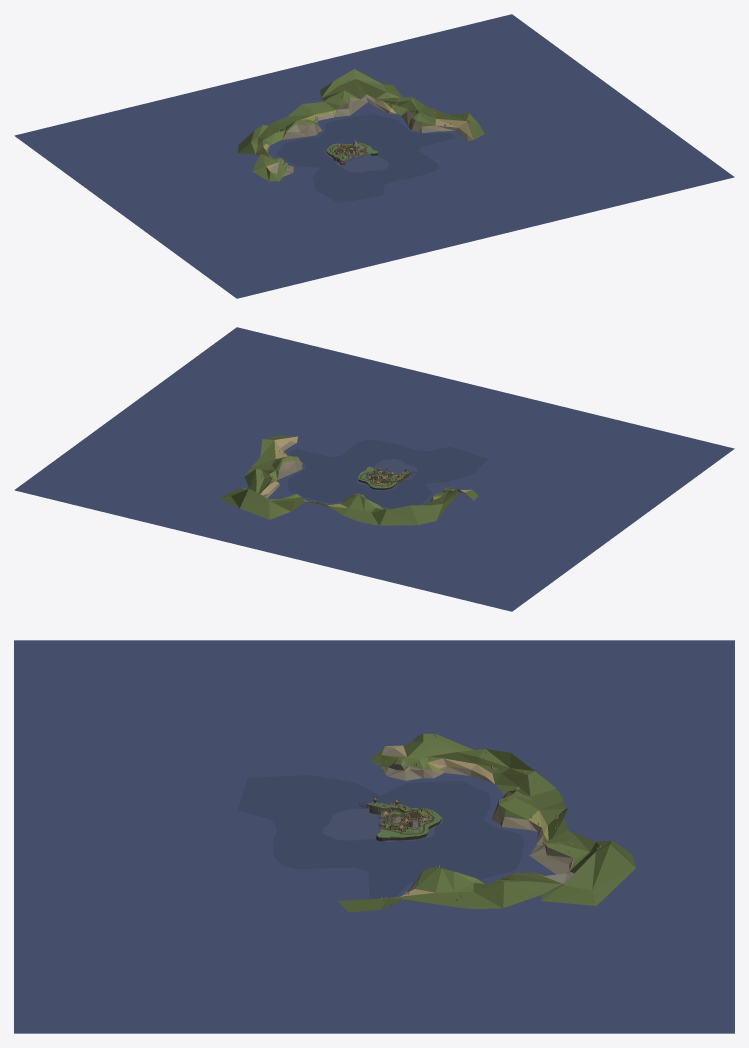
File: narrowFields.glb
3 views of the same model, one above another, from view 1: azimuth 30°, elevation 25°; view 2: azimuth 150°, elevation 25°; view 3: azimuth 270°, elevation 25° (orthographic). The views are drawn at different scales.
Parts seen in each view (by area): view 1: ocean, Plane.419; view 2: ocean, Plane.419; view 3: ocean, Plane.419, floor.
Part boxes in pixels (x1=…): ocean: x1=14, y1=14, x2=734, y2=298; Plane.419: x1=238, y1=69, x2=484, y2=181; ocean: x1=14, y1=327, x2=734, y2=611; Plane.419: x1=219, y1=435, x2=478, y2=525; ocean: x1=14, y1=640, x2=734, y2=1033; Plane.419: x1=338, y1=733, x2=635, y2=912; floor: x1=376, y1=808, x2=441, y2=841.
Size of what is drawn, in the model's own units: 1472 by 62.48 by 1141.
